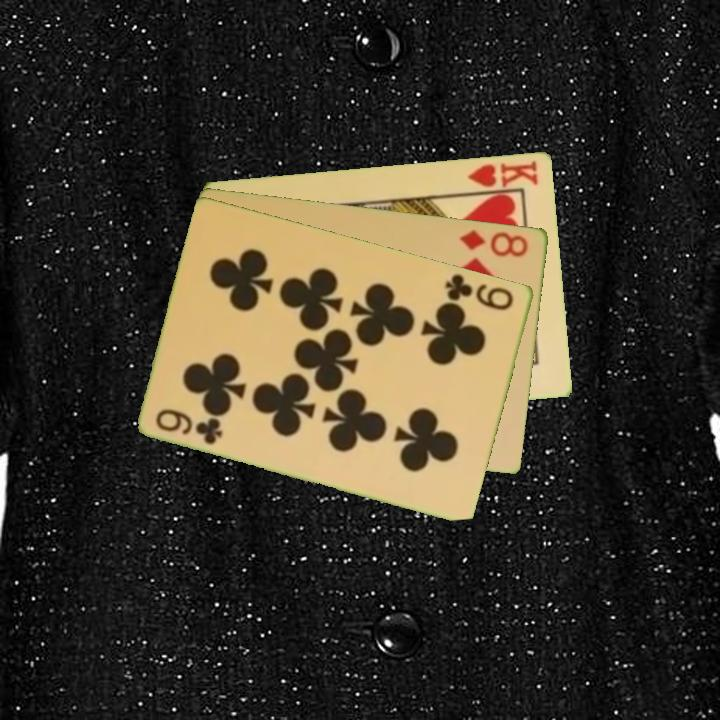8d: (456, 225, 531, 260)
9c: (442, 270, 517, 313), (152, 405, 226, 447)
Kh: (460, 156, 542, 196)
